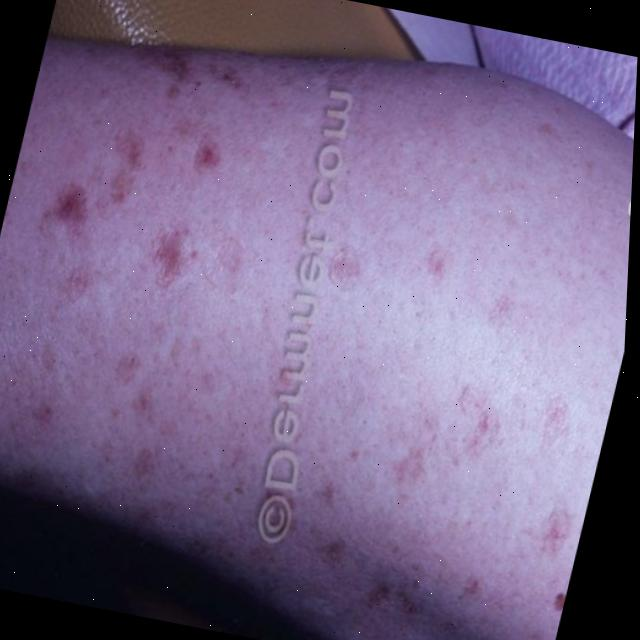Eczema: (0, 40, 638, 640)
